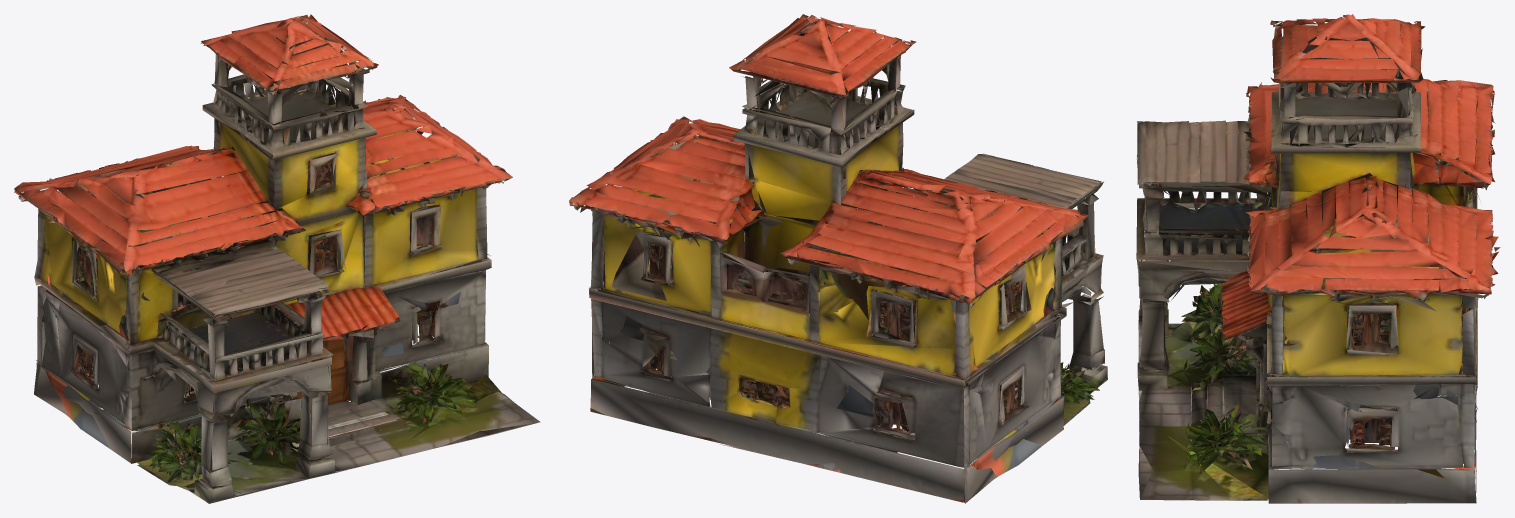
Rendered from Mediterranean_Villa_town.glb.
The picture shows the model from 3 angles, left to right: view 1: azimuth 30°, elevation 25°; view 2: azimuth 150°, elevation 25°; view 3: azimuth 270°, elevation 25°; orthographic projection. The views are drawn at different scales.
Visible parts, largest first — view 1: Mediterranean_Villa; view 2: Mediterranean_Villa; view 3: Mediterranean_Villa.
Part boxes in pixels (box(x1,y1,x2,y2)): Mediterranean_Villa: box(14, 14, 540, 503); Mediterranean_Villa: box(569, 14, 1107, 503); Mediterranean_Villa: box(1136, 14, 1500, 503).
Bounding box in the file's own units: 1.93 × 1.75 × 1.42.
Materials: 1 (1 with a texture image).
